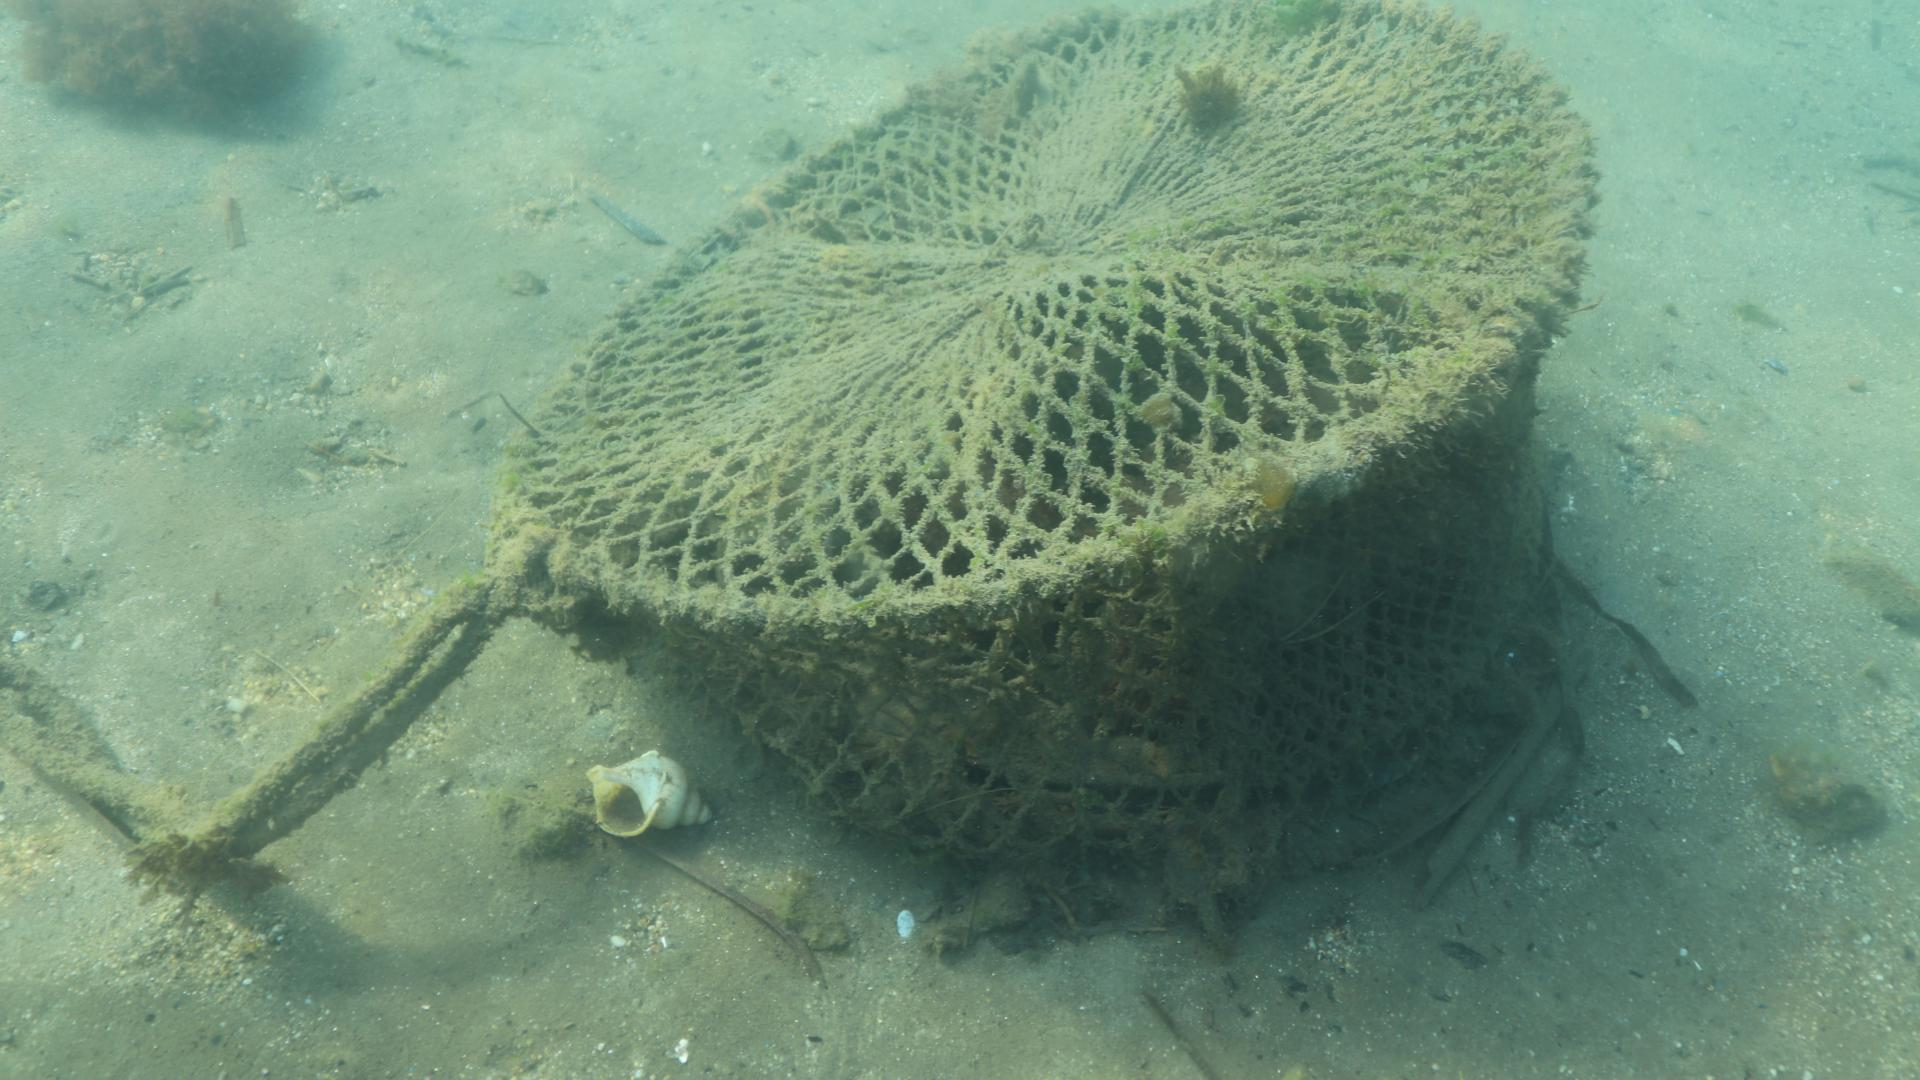bundle of ropes: (0, 567, 505, 877)
circular fish trap: (498, 0, 1600, 878)
